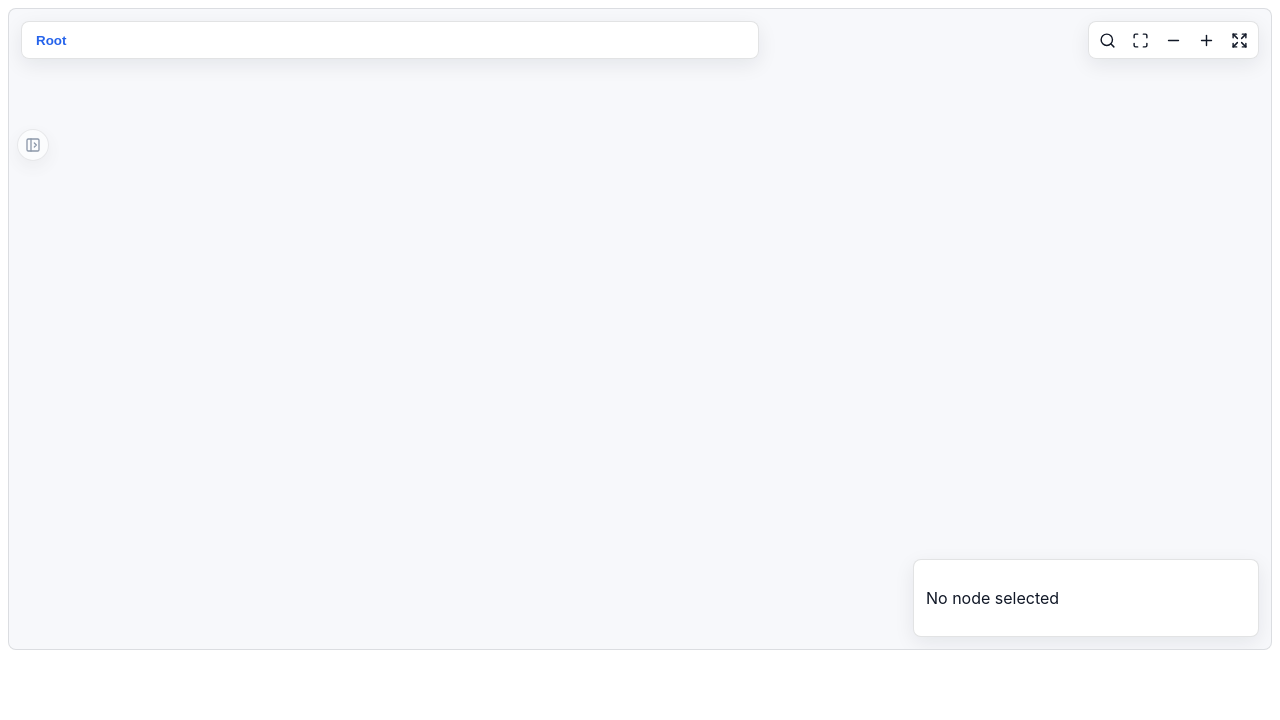
it: @my-mind-node/react › supports split layout in readonly viewer
Click the button with class "mmn-branch-toggle-btn".
click(33, 145)  # box x1=17 y1=129 x2=49 y2=161
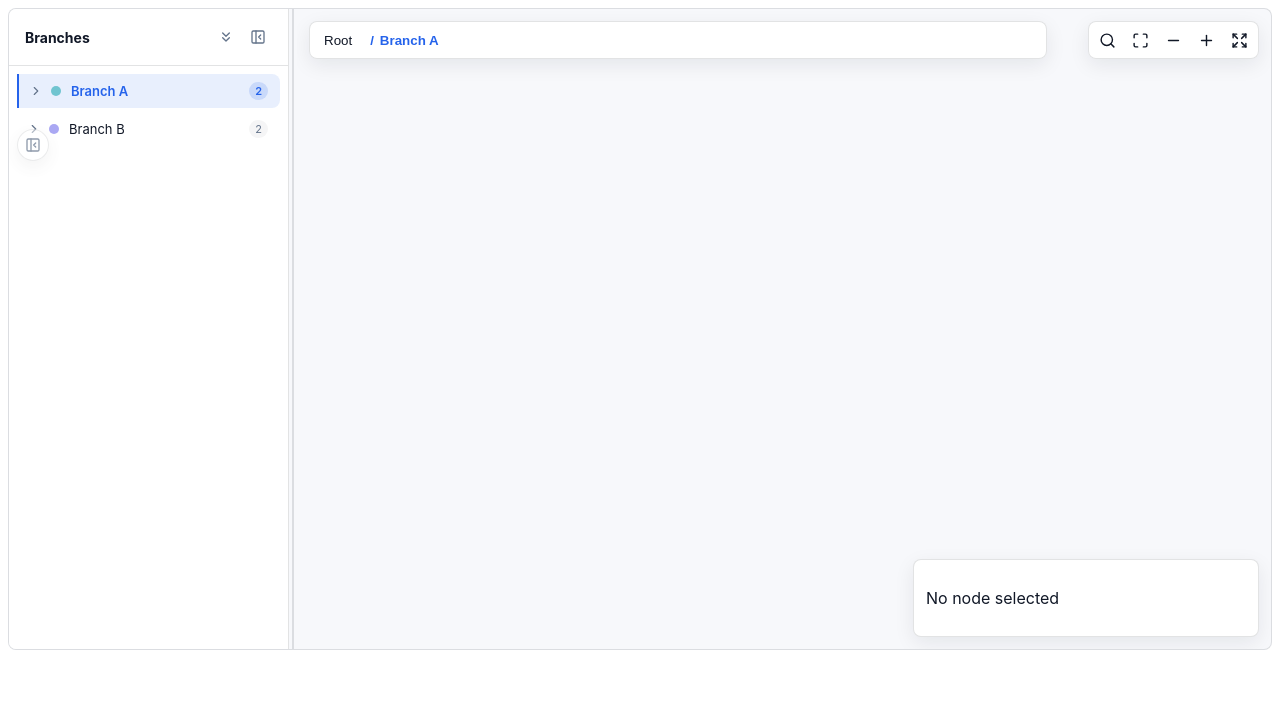
Now the element with class "mmn-branch-layout" is shown
Now the element with class "mmn-branch-list-panel" is shown, box x1=9 y1=9 x2=289 y2=649
